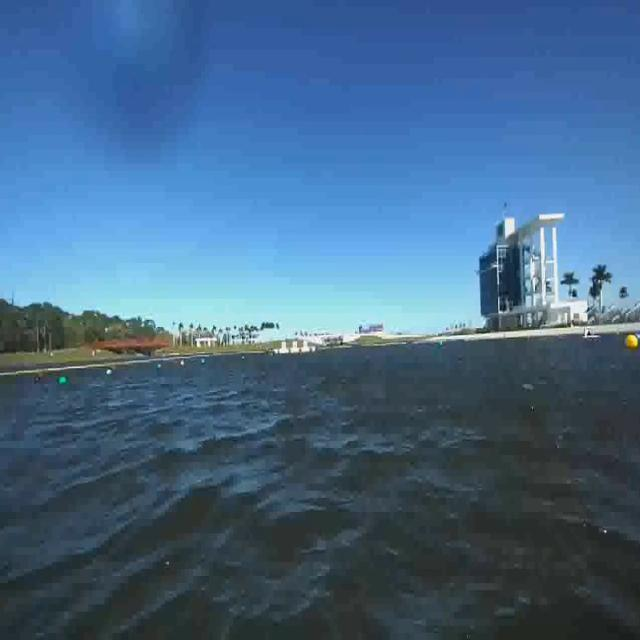yellow-buoy: (626, 336, 639, 352)
